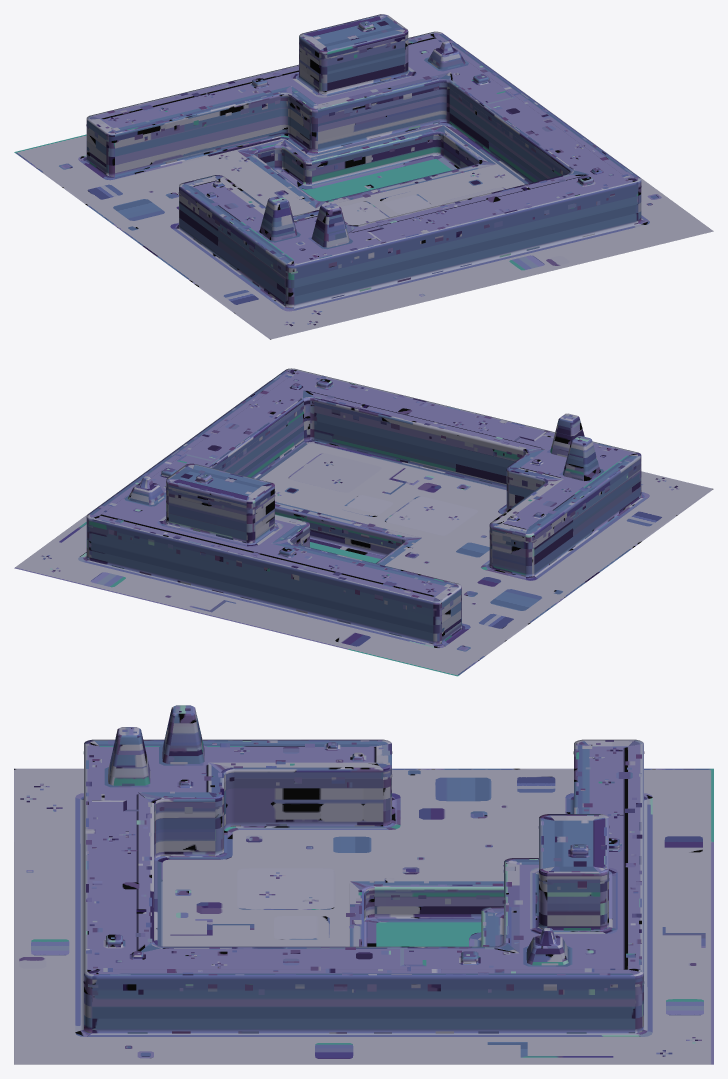
File: C_cave1_06.fbx
3 views of the same model, one above another, from view 1: azimuth 30°, elevation 25°; view 2: azimuth 150°, elevation 25°; view 3: azimuth 270°, elevation 25° (orthographic). The views are drawn at different scales.
Parts seen in each view (by area): view 1: model; view 2: model; view 3: model.
Part boxes in pixels (box(x1,y1,x2,y2)): model: box(14, 14, 713, 339); model: box(14, 368, 713, 676); model: box(14, 705, 713, 1064).
Size of the model in its own units: 50 by 13.22 by 50.
